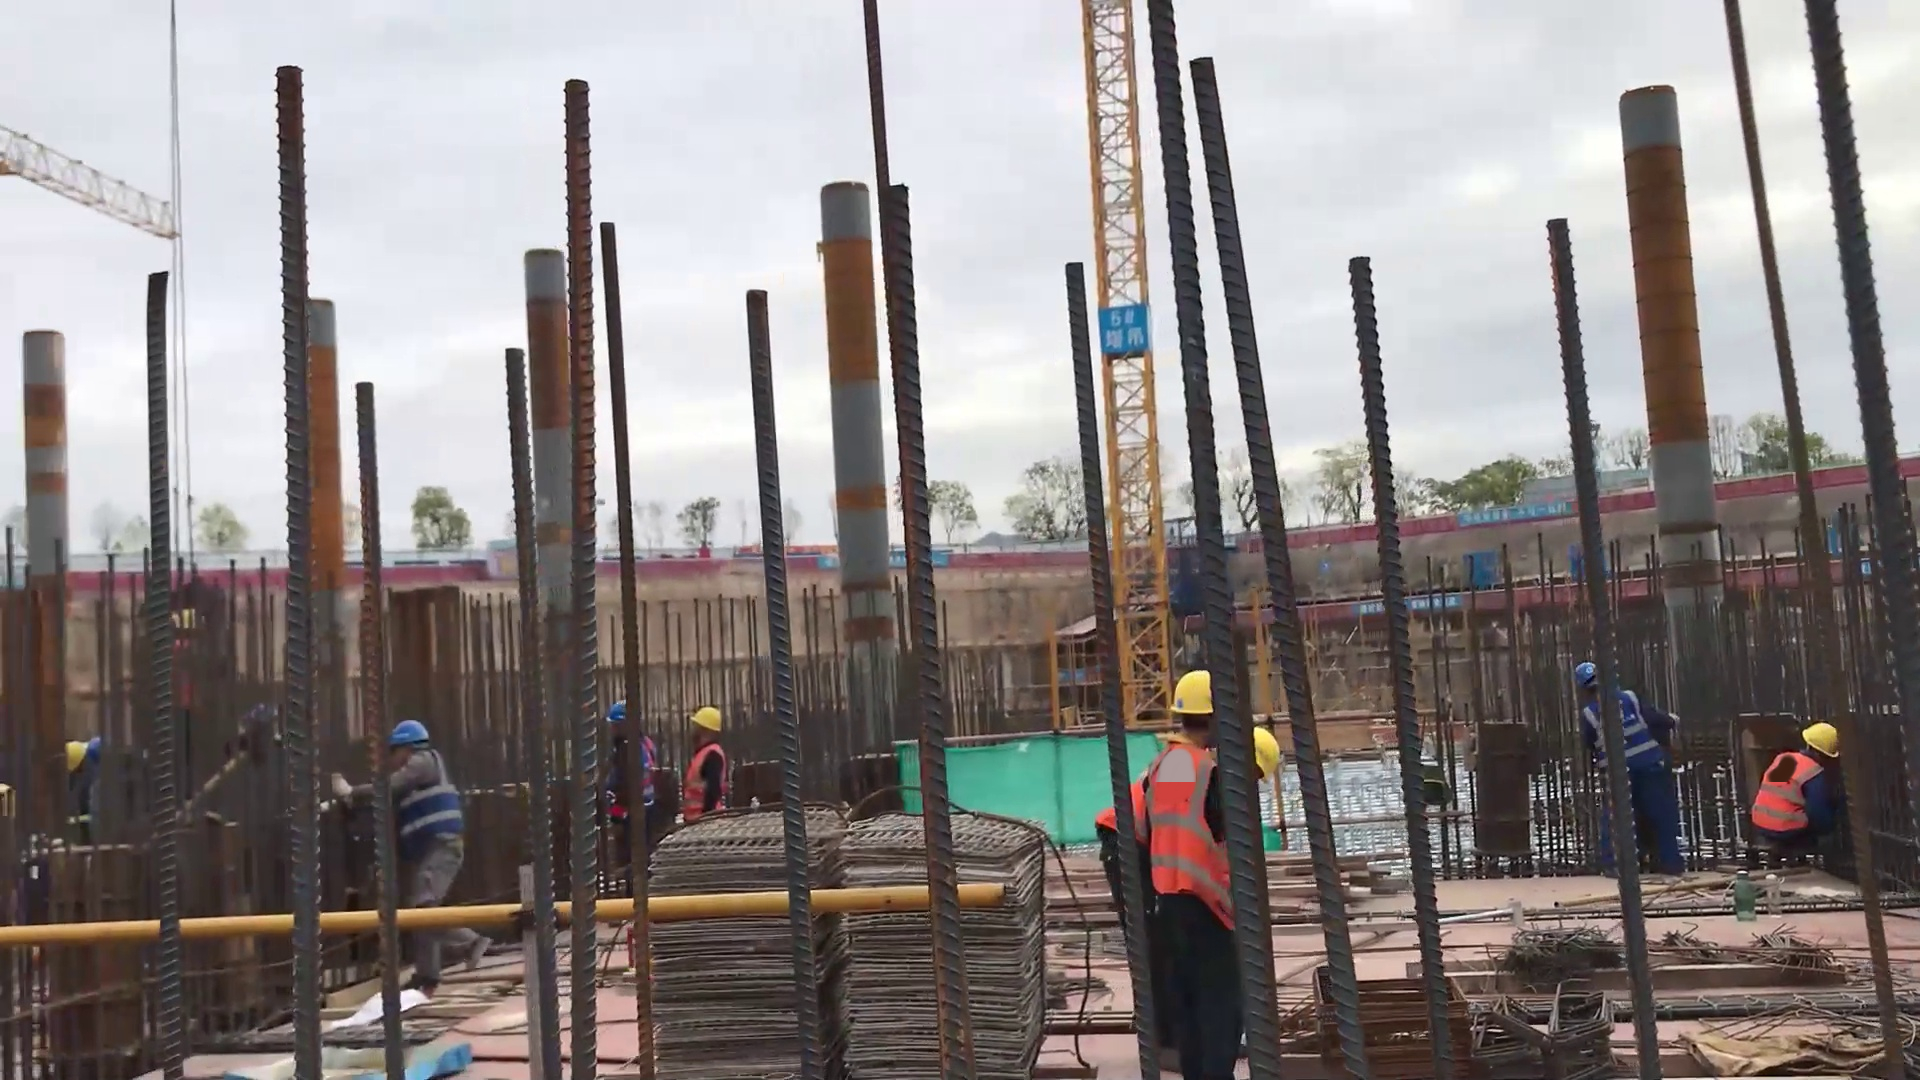helmet: (1164, 669, 1226, 723), (1794, 714, 1839, 762), (1250, 720, 1284, 782), (380, 718, 439, 750), (689, 705, 731, 734), (1572, 652, 1601, 693), (606, 697, 634, 728)
person: (1099, 667, 1288, 1068), (336, 718, 492, 984), (1575, 659, 1680, 882), (1745, 717, 1843, 885), (602, 691, 659, 891), (678, 704, 730, 832)
vest: (1103, 740, 1242, 935), (1753, 749, 1826, 850), (386, 752, 462, 851), (1581, 685, 1652, 773), (673, 742, 726, 824)
